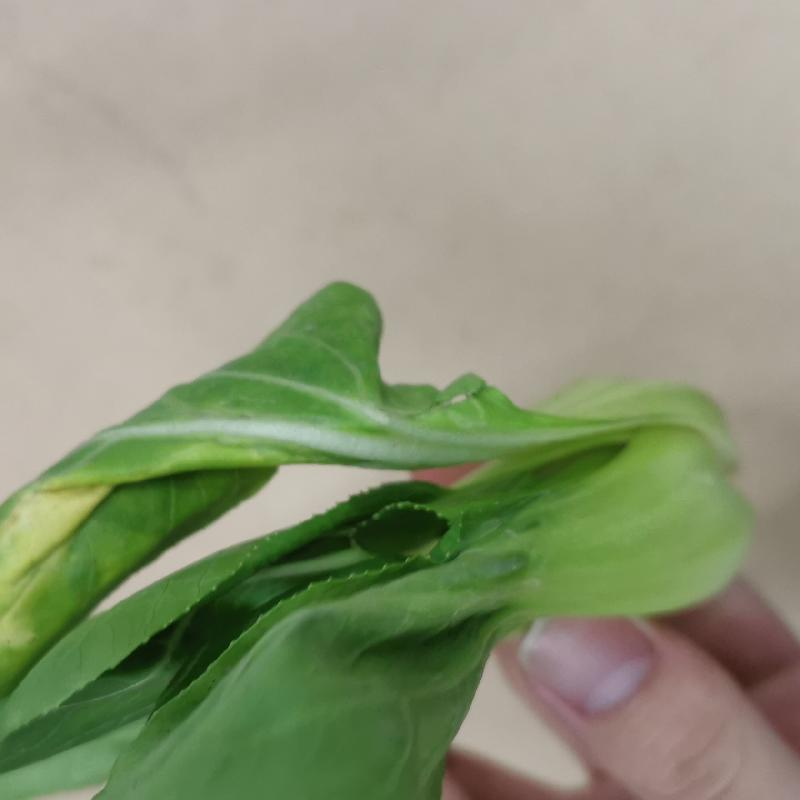green vegatable: (3, 278, 745, 791)
